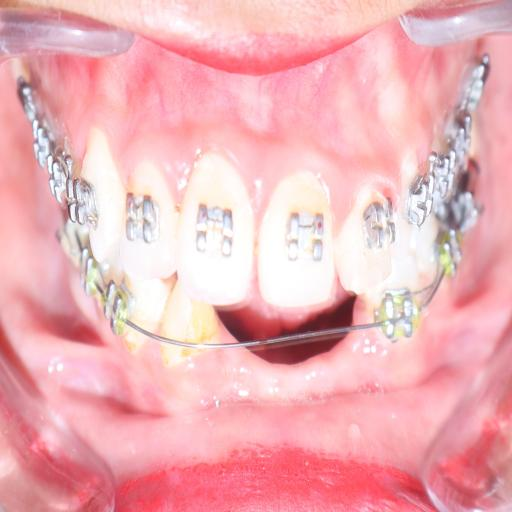correct_brace: (193, 195, 238, 257), (123, 183, 161, 248), (286, 200, 322, 264), (361, 195, 400, 250)
incorrect_brace: (338, 180, 392, 295)
